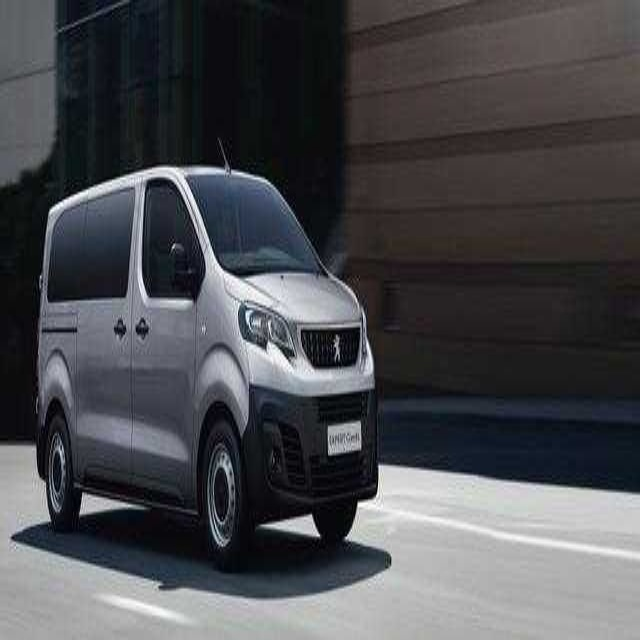Van: (34, 162, 379, 571)
